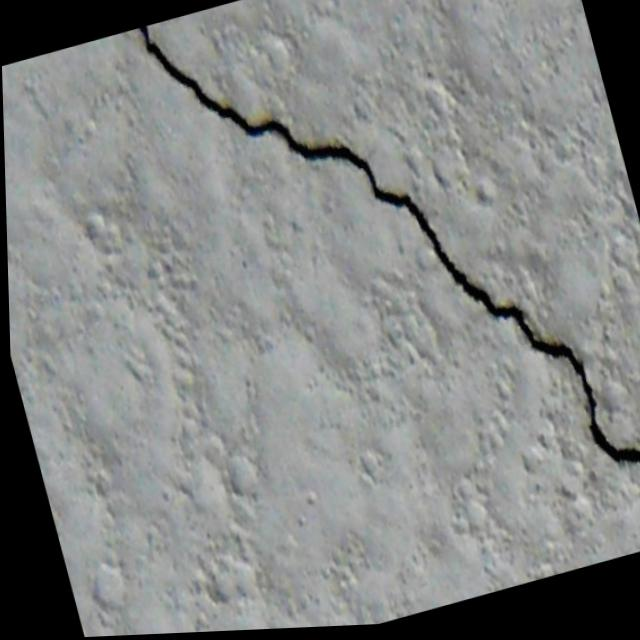Crack: (121, 0, 640, 636)
